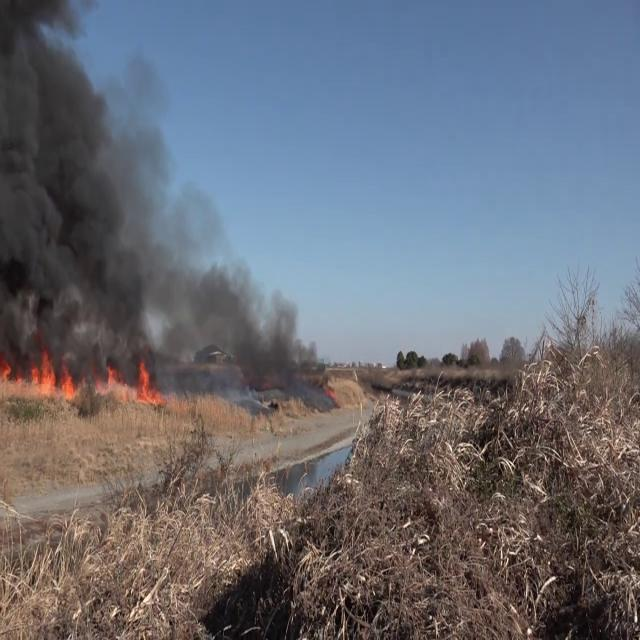Fire: (0, 340, 79, 401), (94, 350, 166, 406), (132, 350, 164, 406)
Smoke: (0, 1, 176, 370), (160, 236, 332, 394)
